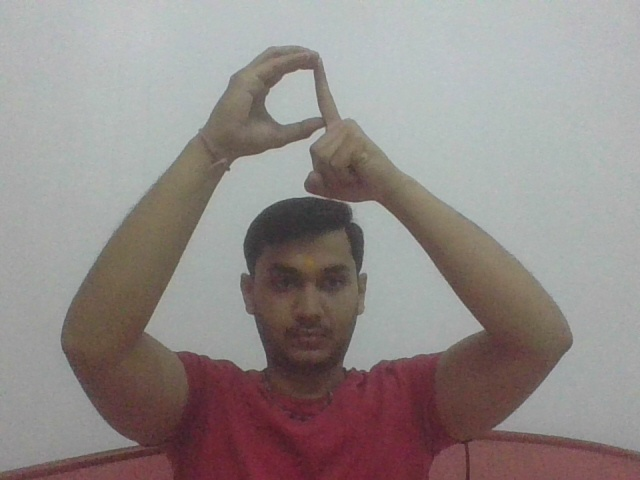D: (221, 41, 385, 201)
